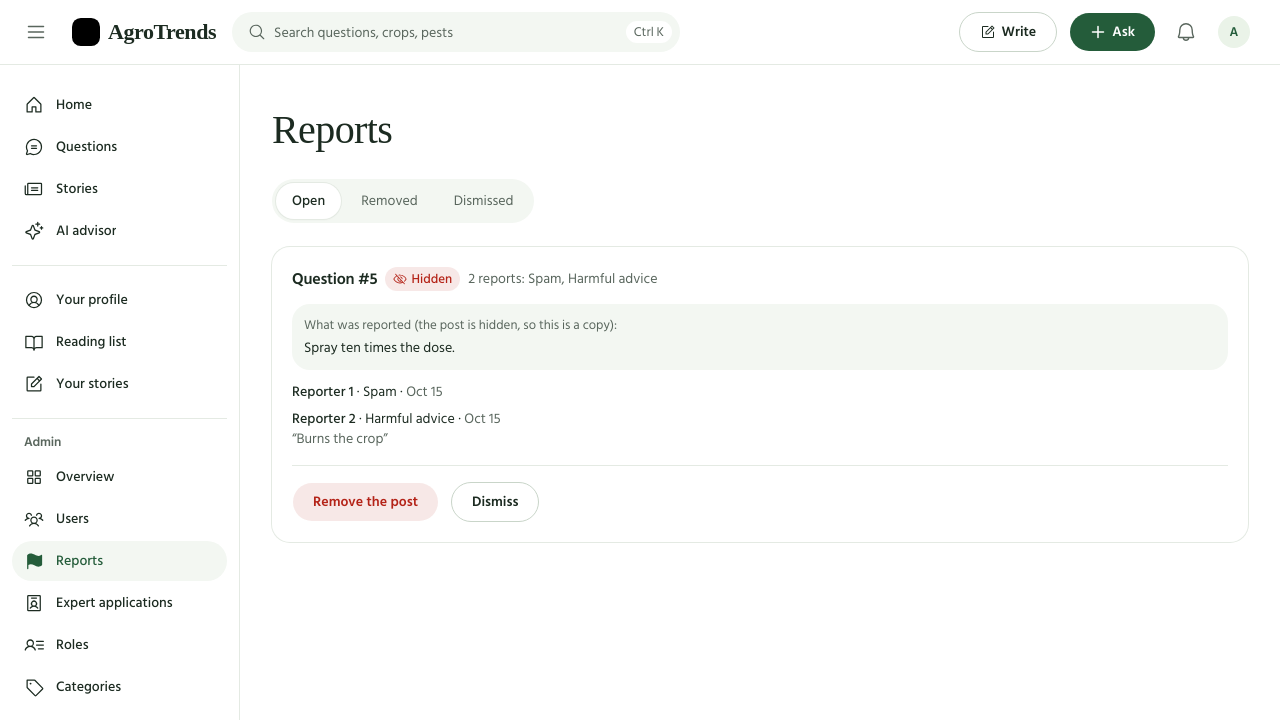
Test case: a hidden post shows its snapshot, and one removal covers its reports
Expected: the text "Hidden" is shown, [385, 267, 460, 291]
Expected: the text "Spray ten times the dose." is shown, [304, 336, 454, 359]
Click the button "Remove the post" at (366, 502), box [292, 482, 439, 522]
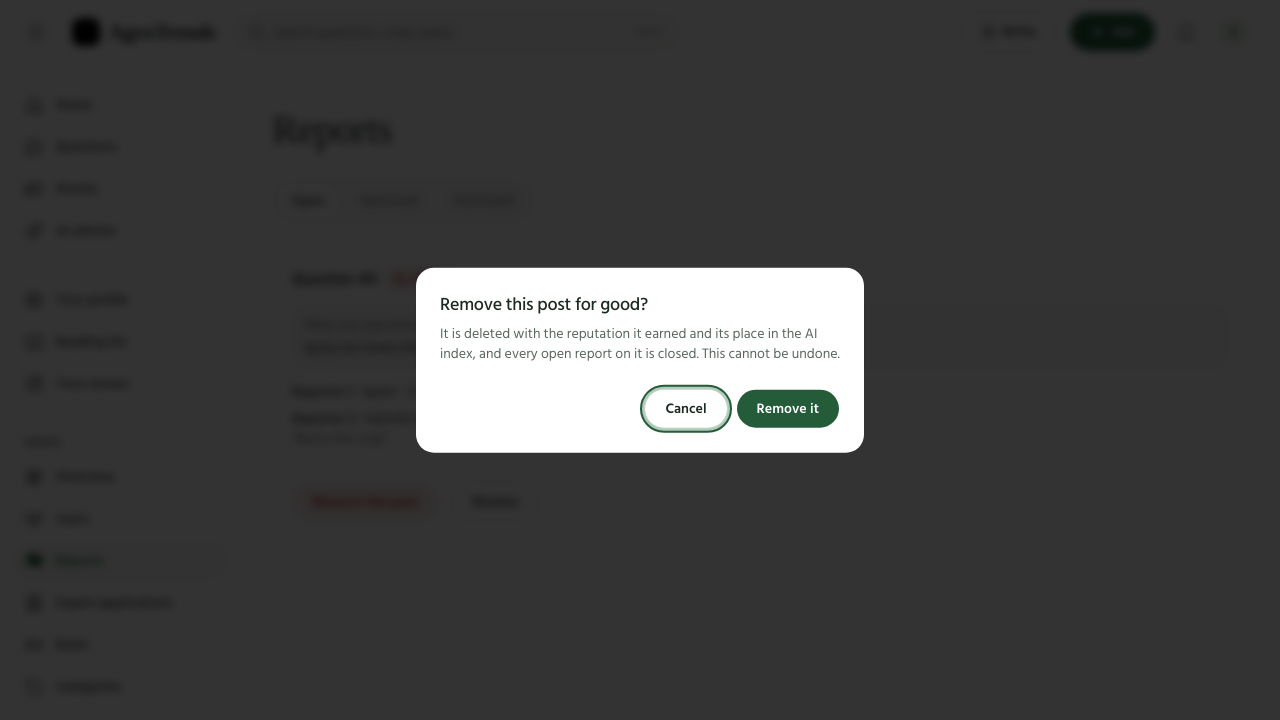
Expected: the dialog "Remove this post for good?" shows "This cannot be undone.", [440, 322, 840, 365]
Click the button "Remove it" at (788, 408), box [736, 388, 840, 428]
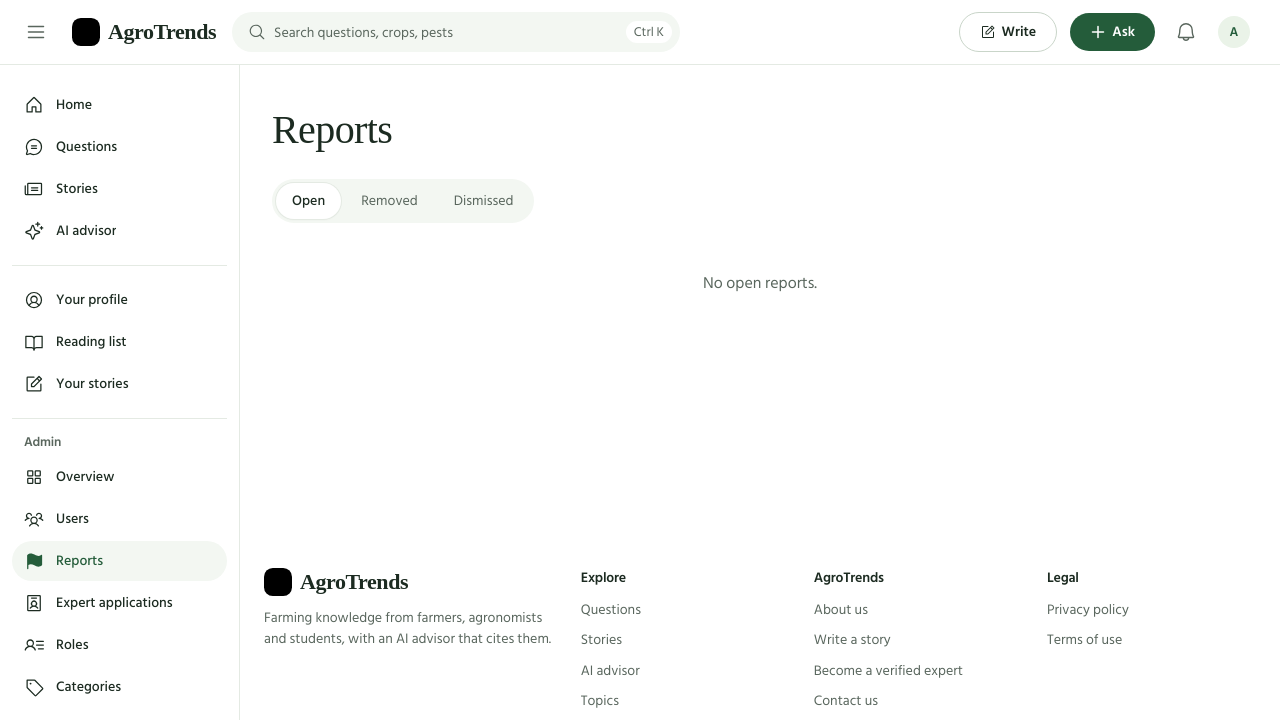
Expected: the text "No open reports." is shown, [703, 270, 817, 296]
